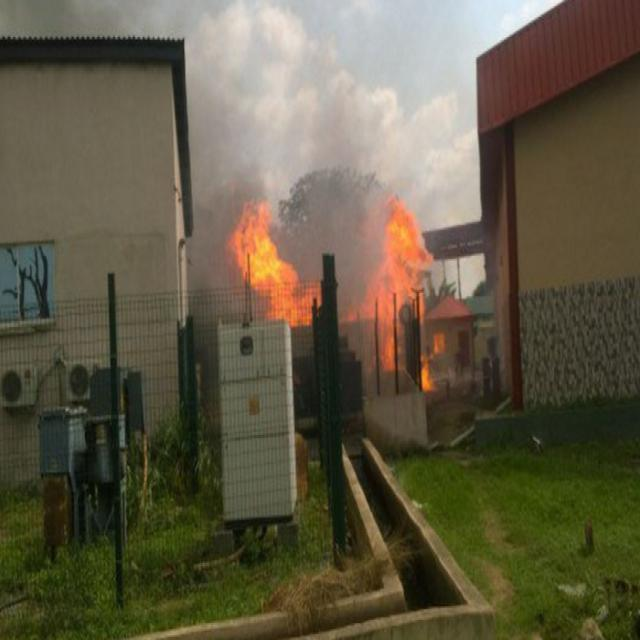Fire: (362, 195, 432, 392), (230, 197, 324, 326)
Smoke: (182, 0, 256, 192), (0, 0, 175, 38), (190, 195, 224, 328)
